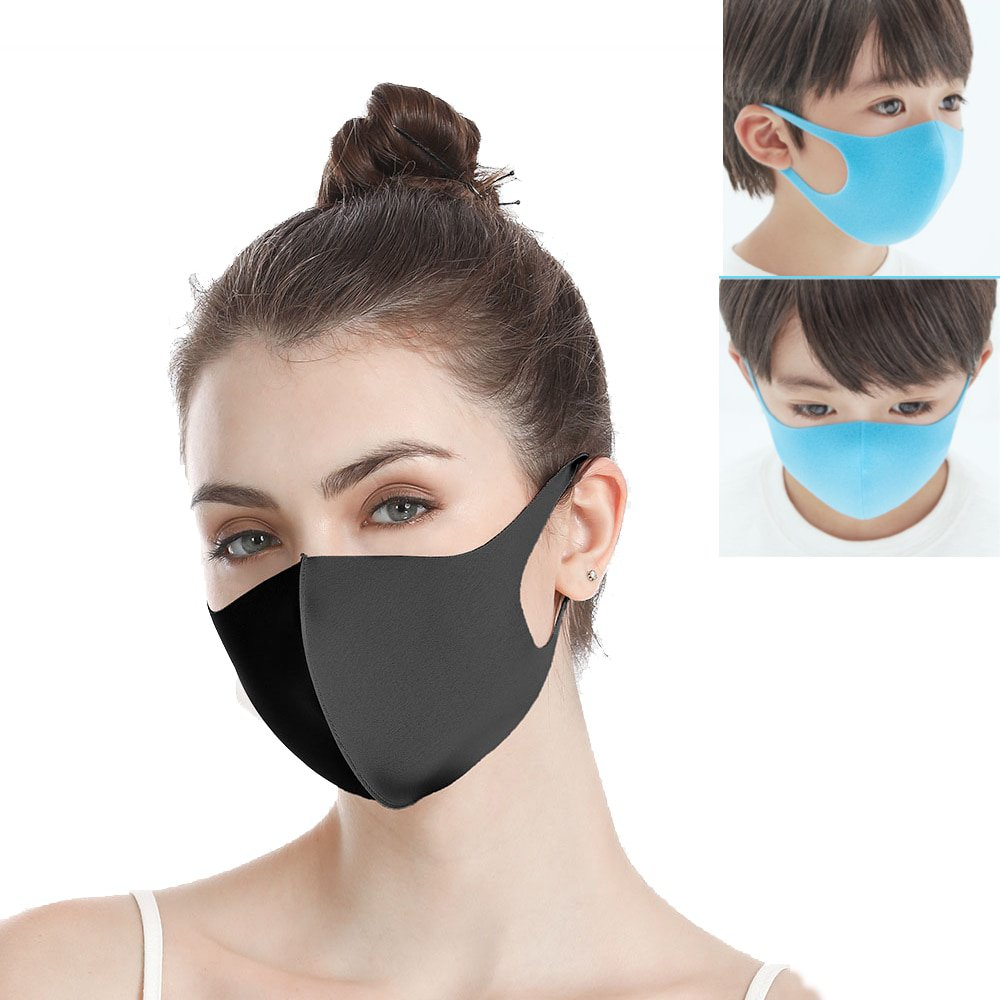mask: (185, 110, 632, 817), (716, 274, 1000, 564), (694, 1, 997, 265)
